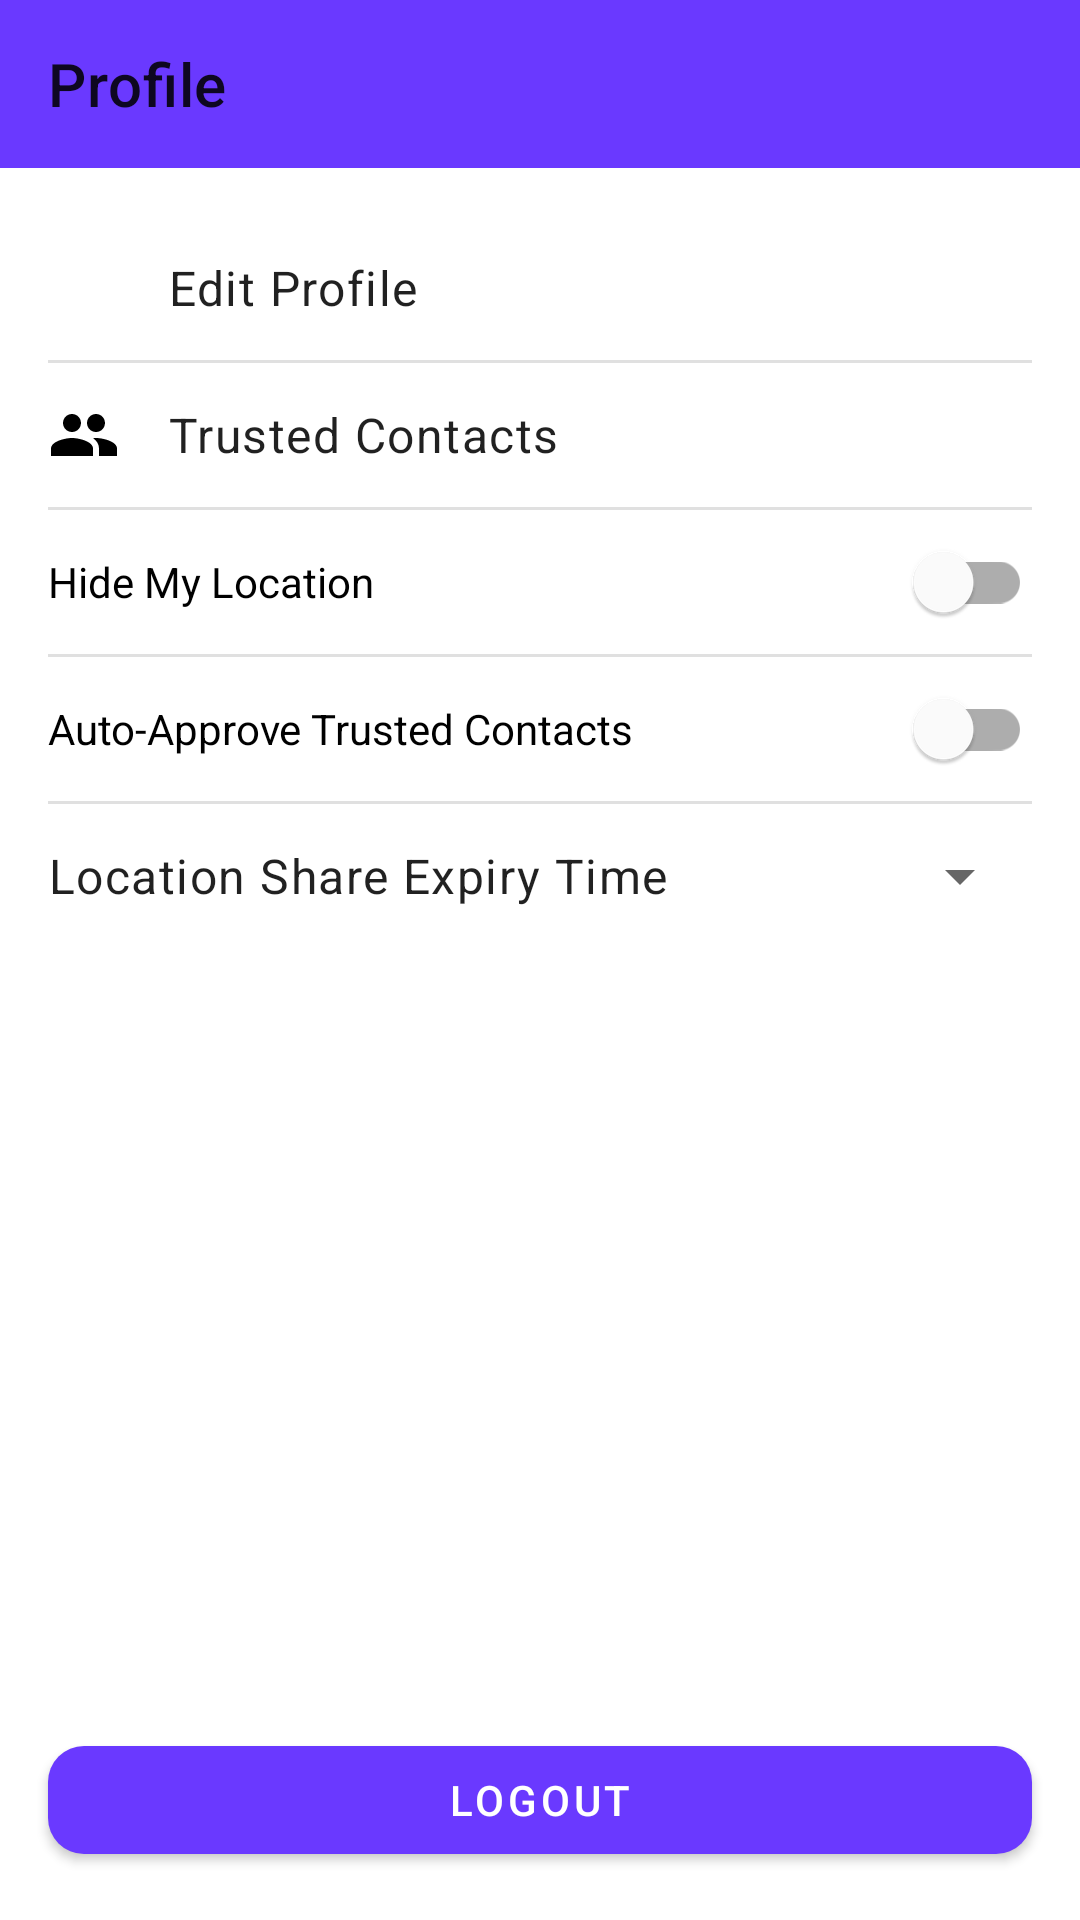

Icon click points for this 1080 x 1920 phone screenshot, format (x,y):
people: (84,435)
